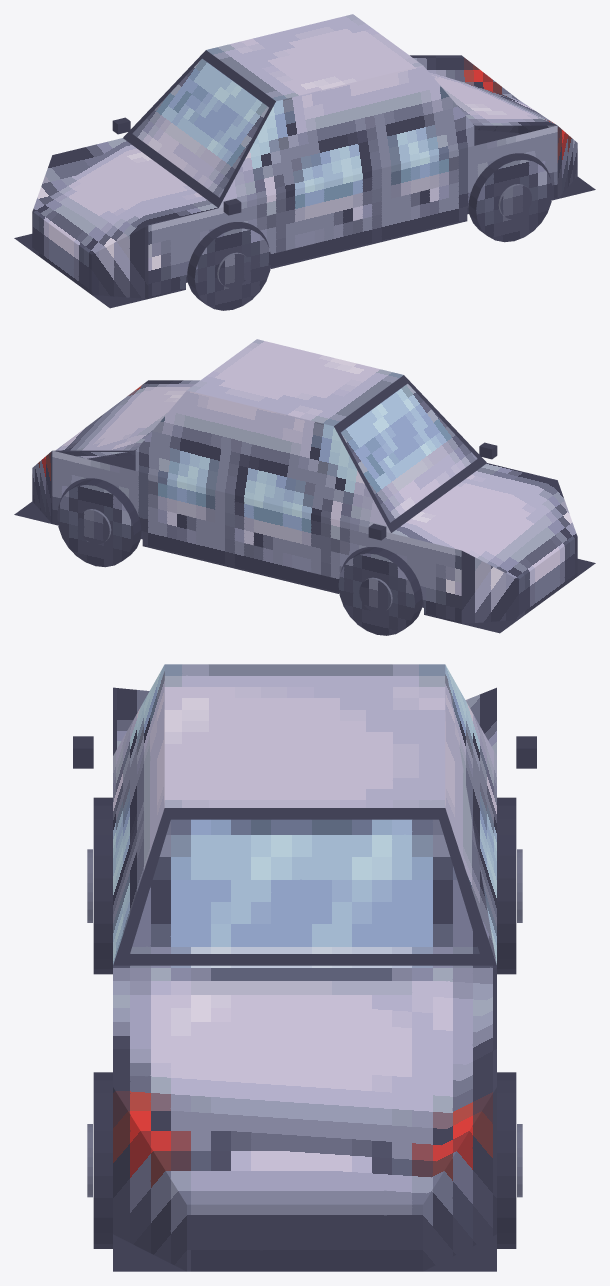
The model's file is unindexed-sedan-silver-v1.glb.
The picture shows the model from 3 angles, top to bottom: view 1: azimuth 30°, elevation 25°; view 2: azimuth 150°, elevation 25°; view 3: azimuth 270°, elevation 25°; orthographic projection. The views are drawn at different scales.
Visible parts, largest first — view 1: Passenger-body-east, Cabin-windows-east, Hood, Roof, Windshield-glass, Tire_FL, Tire_RL, Trunk, Front-corner--1, Windshield-frame, Front-fascia, Underfloor (+5 smaller); view 2: Passenger-body-west, Cabin-windows-west, Hood, Roof, Windshield-glass, Trunk, Tire_FR, Tire_RR, Front-corner-1, Windshield-frame, Front-fascia, Underfloor (+5 smaller); view 3: Trunk, Rear-window-glass, Roof, Rear-fascia, Rear-window-frame, Cabin-windows-east, Cabin-windows-west, Rear-corner-1, Rear-corner--1, Tire_FL, Tire_FR, Tire_RL (+3 smaller).
Part boxes in pixels (x1,y1,x2,y2): Passenger-body-east: (148, 125, 557, 298); Cabin-windows-east: (219, 65, 474, 207); Hood: (32, 138, 218, 254); Roof: (206, 14, 422, 101); Windshield-glass: (132, 58, 268, 197); Tire_FL: (187, 222, 271, 310); Tire_RL: (468, 154, 552, 242); Trunk: (410, 55, 557, 125); Front-corner--1: (91, 226, 148, 298); Windshield-frame: (123, 50, 275, 207); Front-fascia: (32, 211, 91, 294); Underfloor: (14, 130, 595, 308); Passenger-body-west: (52, 450, 461, 623); Cabin-windows-west: (135, 390, 390, 532); Hood: (391, 463, 577, 579); Roof: (187, 339, 403, 426); Windshield-glass: (341, 383, 477, 522); Trunk: (53, 380, 199, 458); Tire_FR: (338, 547, 422, 635); Tire_RR: (57, 479, 141, 567); Front-corner-1: (461, 551, 518, 623); Windshield-frame: (334, 375, 486, 532); Front-fascia: (518, 536, 577, 619); Underfloor: (14, 455, 595, 633); Trunk: (113, 965, 496, 1204); Rear-window-glass: (130, 819, 479, 953); Roof: (164, 664, 445, 807); Rear-fascia: (187, 1204, 422, 1271); Rear-window-frame: (113, 808, 496, 965); Cabin-windows-east: (113, 665, 164, 964); Cabin-windows-west: (445, 665, 496, 964); Rear-corner-1: (423, 1087, 496, 1271); Rear-corner--1: (113, 1087, 186, 1271); Tire_FL: (93, 797, 112, 974); Tire_FR: (497, 797, 516, 974); Tire_RL: (93, 1072, 112, 1248).
Size of the model in its own units: 76 by 27 by 31.4.
Materials: 1 (1 with a texture image).
